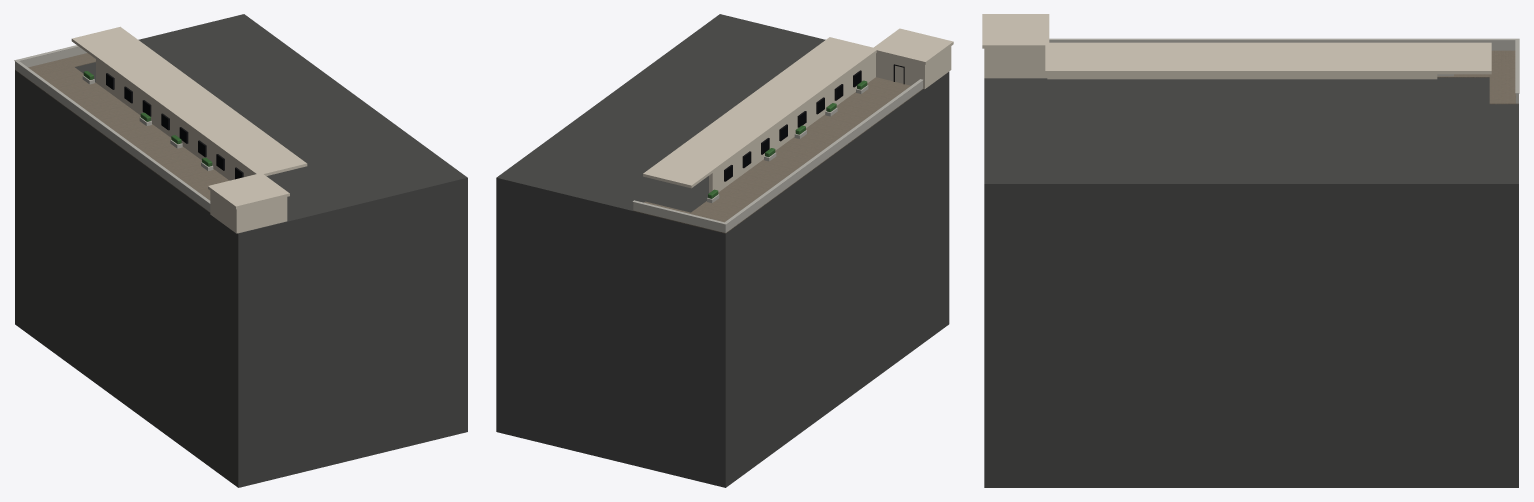
Rendered from set9.glb.
The picture shows the model from 3 angles, left to right: view 1: azimuth 30°, elevation 25°; view 2: azimuth 150°, elevation 25°; view 3: azimuth 270°, elevation 25°; orthographic projection. The views are drawn at different scales.
Visible parts, largest first — view 1: Static; view 2: Static; view 3: Static.
Boxes of the visible parts, x1,y1,x2,y2 form: Static: (14,14,467,487); Static: (496,14,953,487); Static: (982,14,1519,487).
Bounding box in the file's own units: 30.65 × 35.6 × 51.26.
7 materials, 1 textured.
